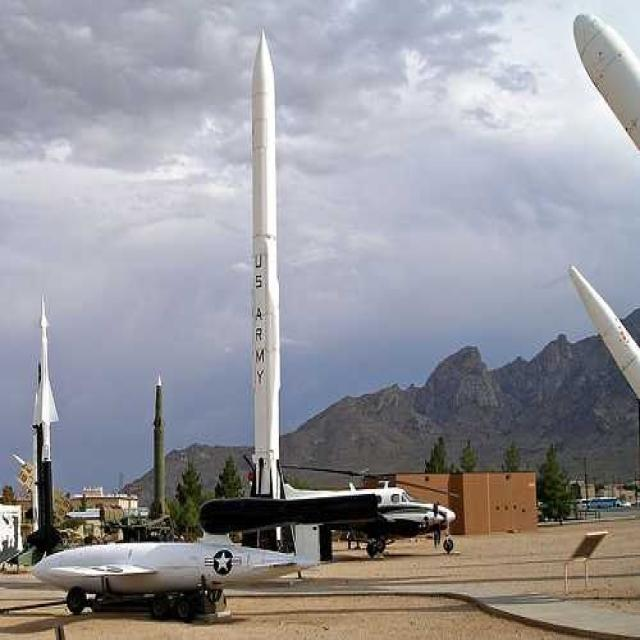missile: (240, 27, 292, 507), (26, 292, 64, 552), (149, 376, 173, 524)
